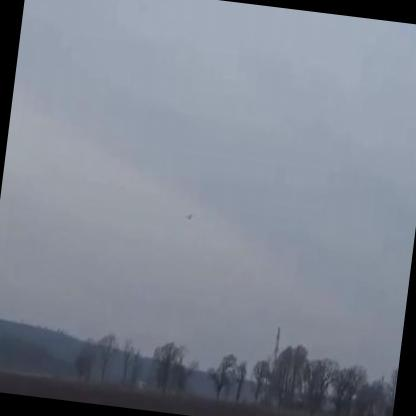plane: (179, 207, 200, 225)
